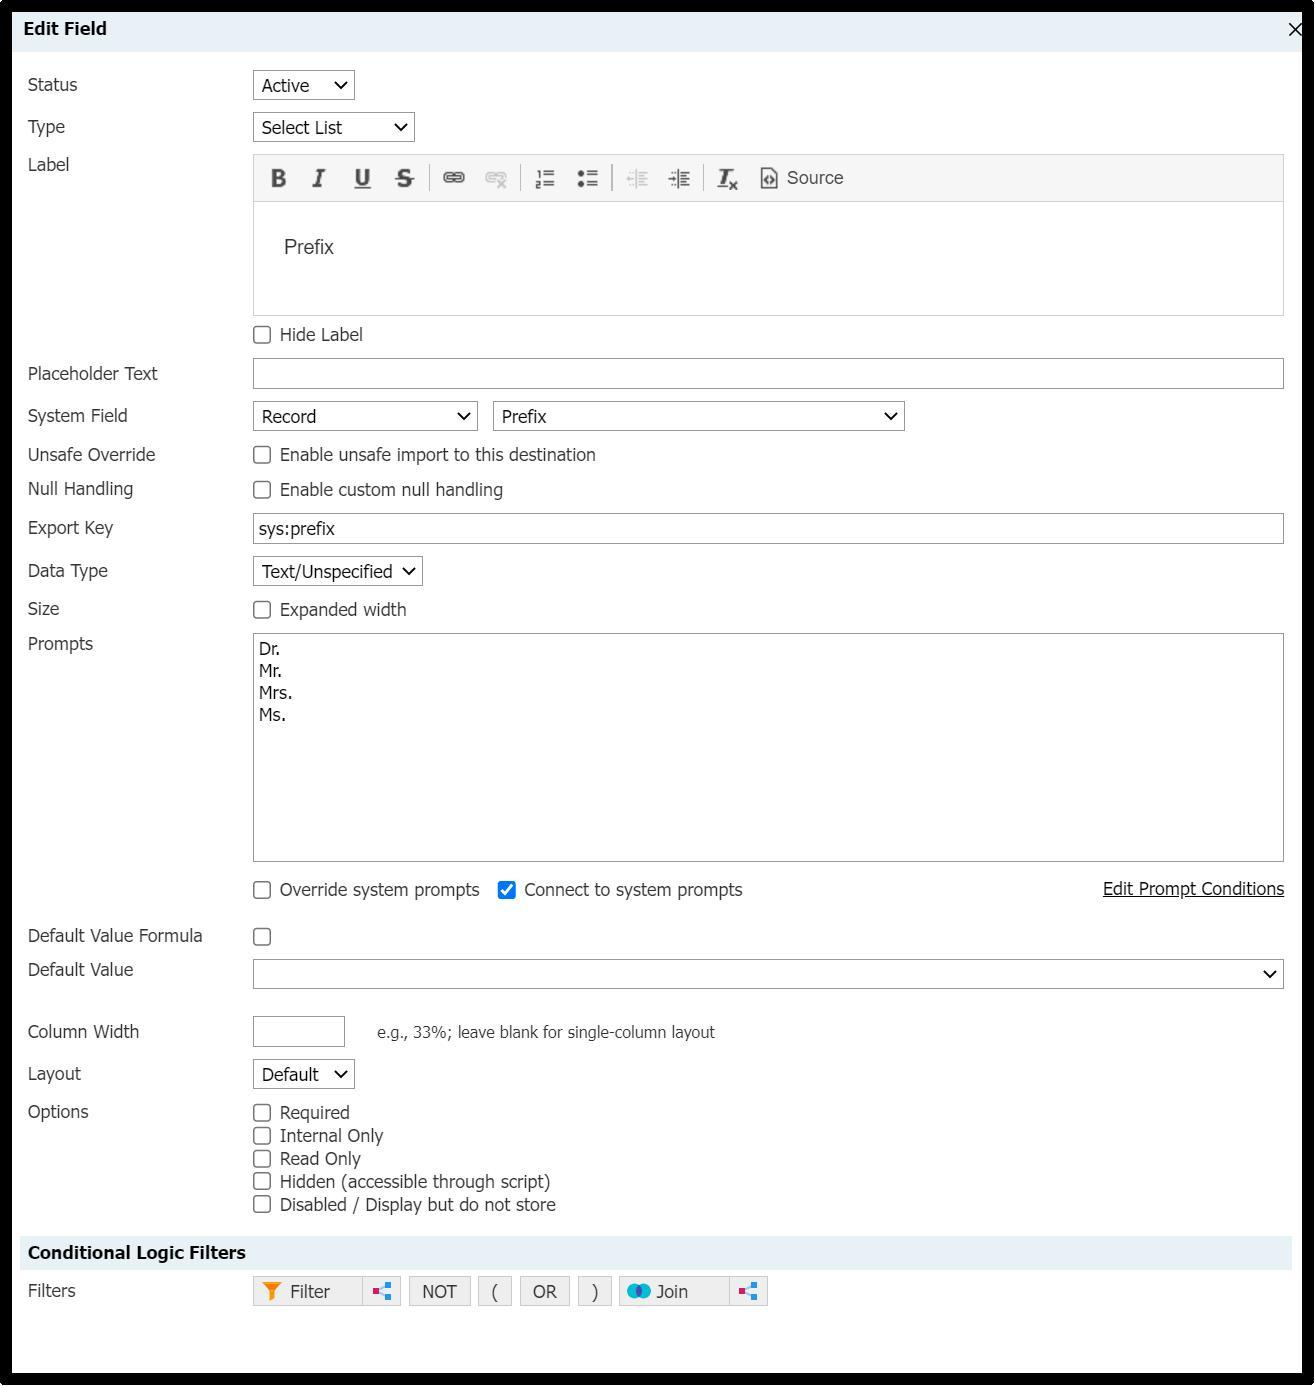button: (620, 1277, 769, 1307), (253, 1278, 400, 1307), (409, 1276, 473, 1307), (520, 1278, 572, 1307)
checkbox: (255, 481, 273, 501), (253, 882, 272, 900), (499, 882, 517, 900), (253, 326, 271, 345), (253, 446, 271, 462), (255, 605, 271, 621), (255, 1151, 269, 1168), (255, 1107, 271, 1121), (256, 1129, 272, 1144), (255, 930, 271, 945), (256, 1175, 271, 1189), (255, 1198, 269, 1212)
dropdown: (256, 961, 1283, 988), (496, 403, 906, 432), (255, 403, 480, 430), (255, 559, 421, 587), (255, 114, 415, 142), (253, 1060, 356, 1091), (255, 70, 356, 101)
icon: (716, 164, 743, 197), (624, 167, 654, 194), (664, 167, 695, 193), (349, 169, 381, 194), (392, 164, 418, 194), (307, 167, 337, 192), (481, 169, 513, 190), (758, 167, 782, 194), (575, 168, 603, 192), (441, 168, 468, 190), (533, 168, 557, 192), (269, 169, 293, 192)
input: (256, 513, 1285, 545), (255, 359, 1284, 389), (255, 1019, 346, 1048)
label: (278, 441, 604, 466), (523, 882, 746, 908), (281, 481, 507, 503), (282, 1175, 551, 1193), (276, 882, 488, 903), (281, 1199, 557, 1214), (277, 600, 412, 624), (281, 1126, 386, 1147), (281, 324, 368, 347), (279, 1150, 363, 1168), (279, 1107, 355, 1124)
